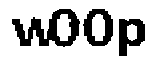0: (83, 4, 115, 50), (50, 2, 80, 49)
p: (116, 15, 148, 59)
w: (9, 15, 53, 50)
